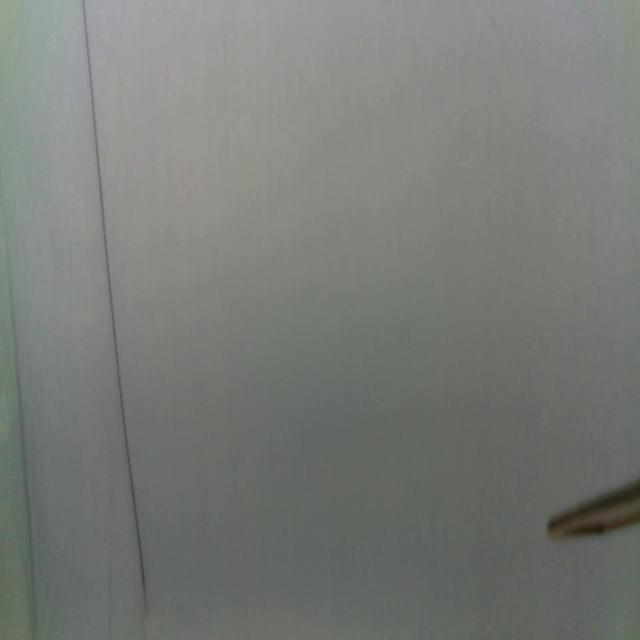crease: (82, 0, 147, 611), (3, 244, 38, 640), (106, 549, 114, 640)
